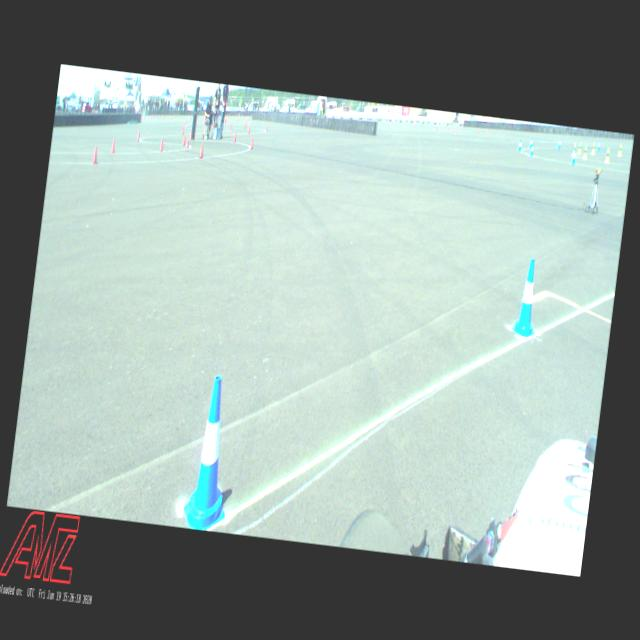blue_cone: (180, 372, 242, 532), (510, 257, 544, 338), (570, 148, 576, 164), (516, 138, 522, 152), (529, 142, 534, 155), (596, 140, 601, 150), (558, 138, 562, 149), (528, 138, 532, 148)
unknown_cone: (92, 145, 100, 165), (198, 142, 204, 158), (110, 138, 116, 154), (159, 138, 165, 150), (182, 132, 186, 146), (186, 135, 190, 148), (136, 130, 140, 142), (233, 130, 237, 142), (250, 136, 253, 149), (247, 125, 250, 134), (181, 126, 184, 134), (190, 128, 192, 139)
yellow_cone: (604, 148, 610, 163), (582, 145, 588, 158), (590, 142, 596, 154), (617, 144, 622, 156), (572, 142, 576, 156), (578, 142, 582, 154)
